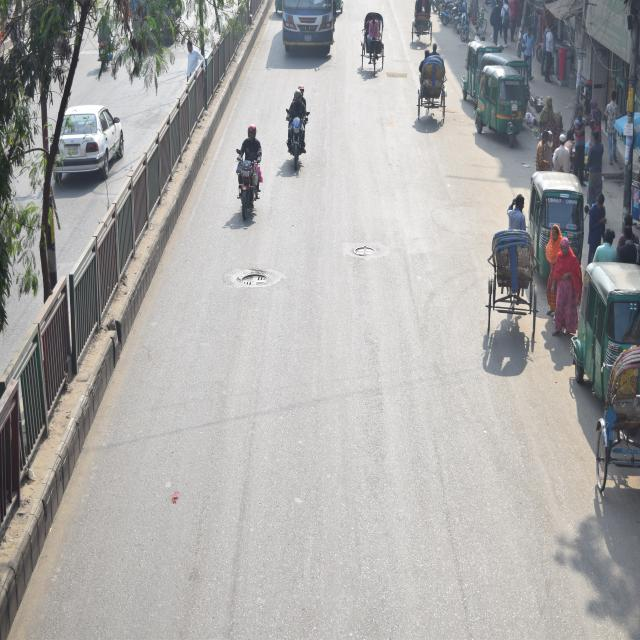bus: (282, 0, 338, 64)
car: (51, 92, 125, 190)
motorbike: (228, 133, 266, 235), (282, 98, 307, 173)
